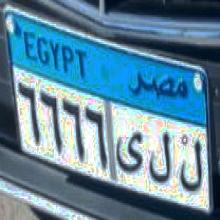6: (40, 85, 63, 161), (84, 103, 108, 172), (62, 93, 84, 168), (18, 78, 40, 147)
laam: (178, 131, 204, 203), (148, 124, 172, 192)
yaa: (114, 121, 143, 185)
